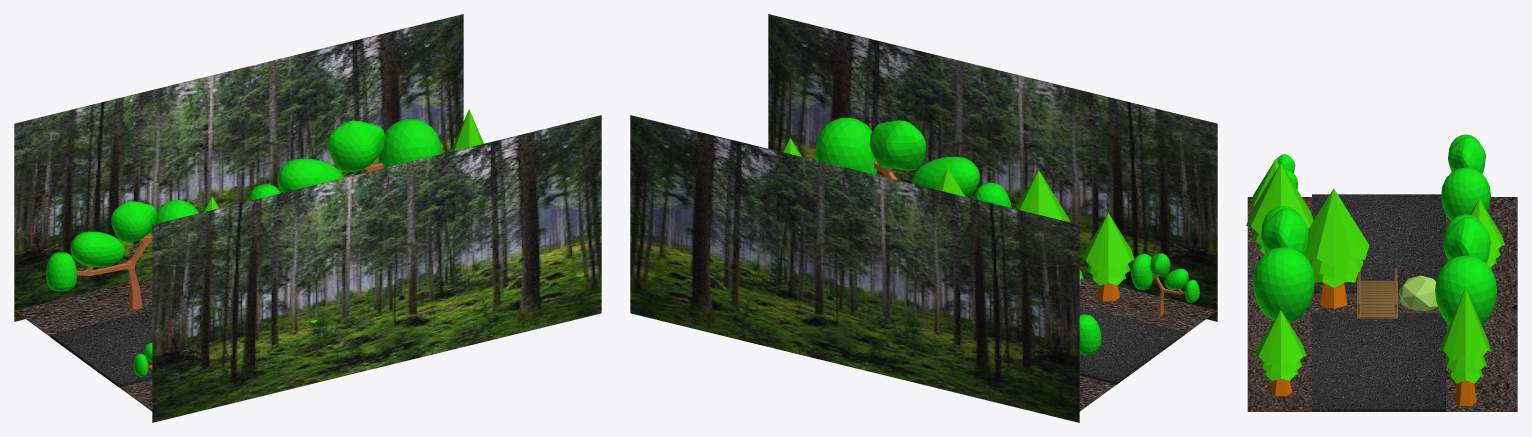
File: env1.game.fbx
3 views of the same model, side by side, from view 1: azimuth 30°, elevation 25°; view 2: azimuth 150°, elevation 25°; view 3: azimuth 270°, elevation 25° (orthographic). The views are drawn at different scales.
Visible parts, largest first — view 1: Plane.001, Icosphere.003, Icosphere.002, Plane.002, Plane, Cone.004; view 2: Plane.001, Icosphere.001, Plane.002, Plane, Cone.007, Icosphere.004, Cone.005, Icosphere.002; view 3: Plane.003, Plane, Plane.002, Icosphere.001, Icosphere.003, Cone.008, Cone.004, Icosphere.002, Cone.003, Cone.005, Cube.001, Bush02.001 (+3 smaller).
Boxes of the visible parts, x1,y1,x2,y2 form: Plane.001: (14,14,601,422); Icosphere.003: (248,119,441,201); Icosphere.002: (46,200,198,309); Plane.002: (50,310,152,387); Plane: (14,277,152,411); Cone.004: (451,109,483,151); Plane.001: (630,14,1217,422); Icosphere.001: (815,117,1011,207); Plane.002: (1079,306,1184,384); Plane: (1079,278,1217,411); Cone.007: (1082,213,1134,301); Icosphere.004: (1131,253,1199,316); Cone.005: (1015,170,1069,222); Icosphere.002: (1079,314,1101,354); Plane.003: (1312,313,1445,411); Plane: (1247,197,1517,411); Plane.002: (1312,194,1445,293); Icosphere.001: (1252,206,1314,323); Icosphere.003: (1435,214,1497,325); Cone.008: (1304,188,1369,308); Cone.004: (1440,287,1491,405); Icosphere.002: (1441,134,1490,221); Cone.003: (1255,310,1306,396); Cone.005: (1246,163,1313,254); Cube.001: (1357,267,1397,318); Bush02.001: (1398,275,1437,310).
Bounding box in the file's own units: 1792 × 752 × 954.
